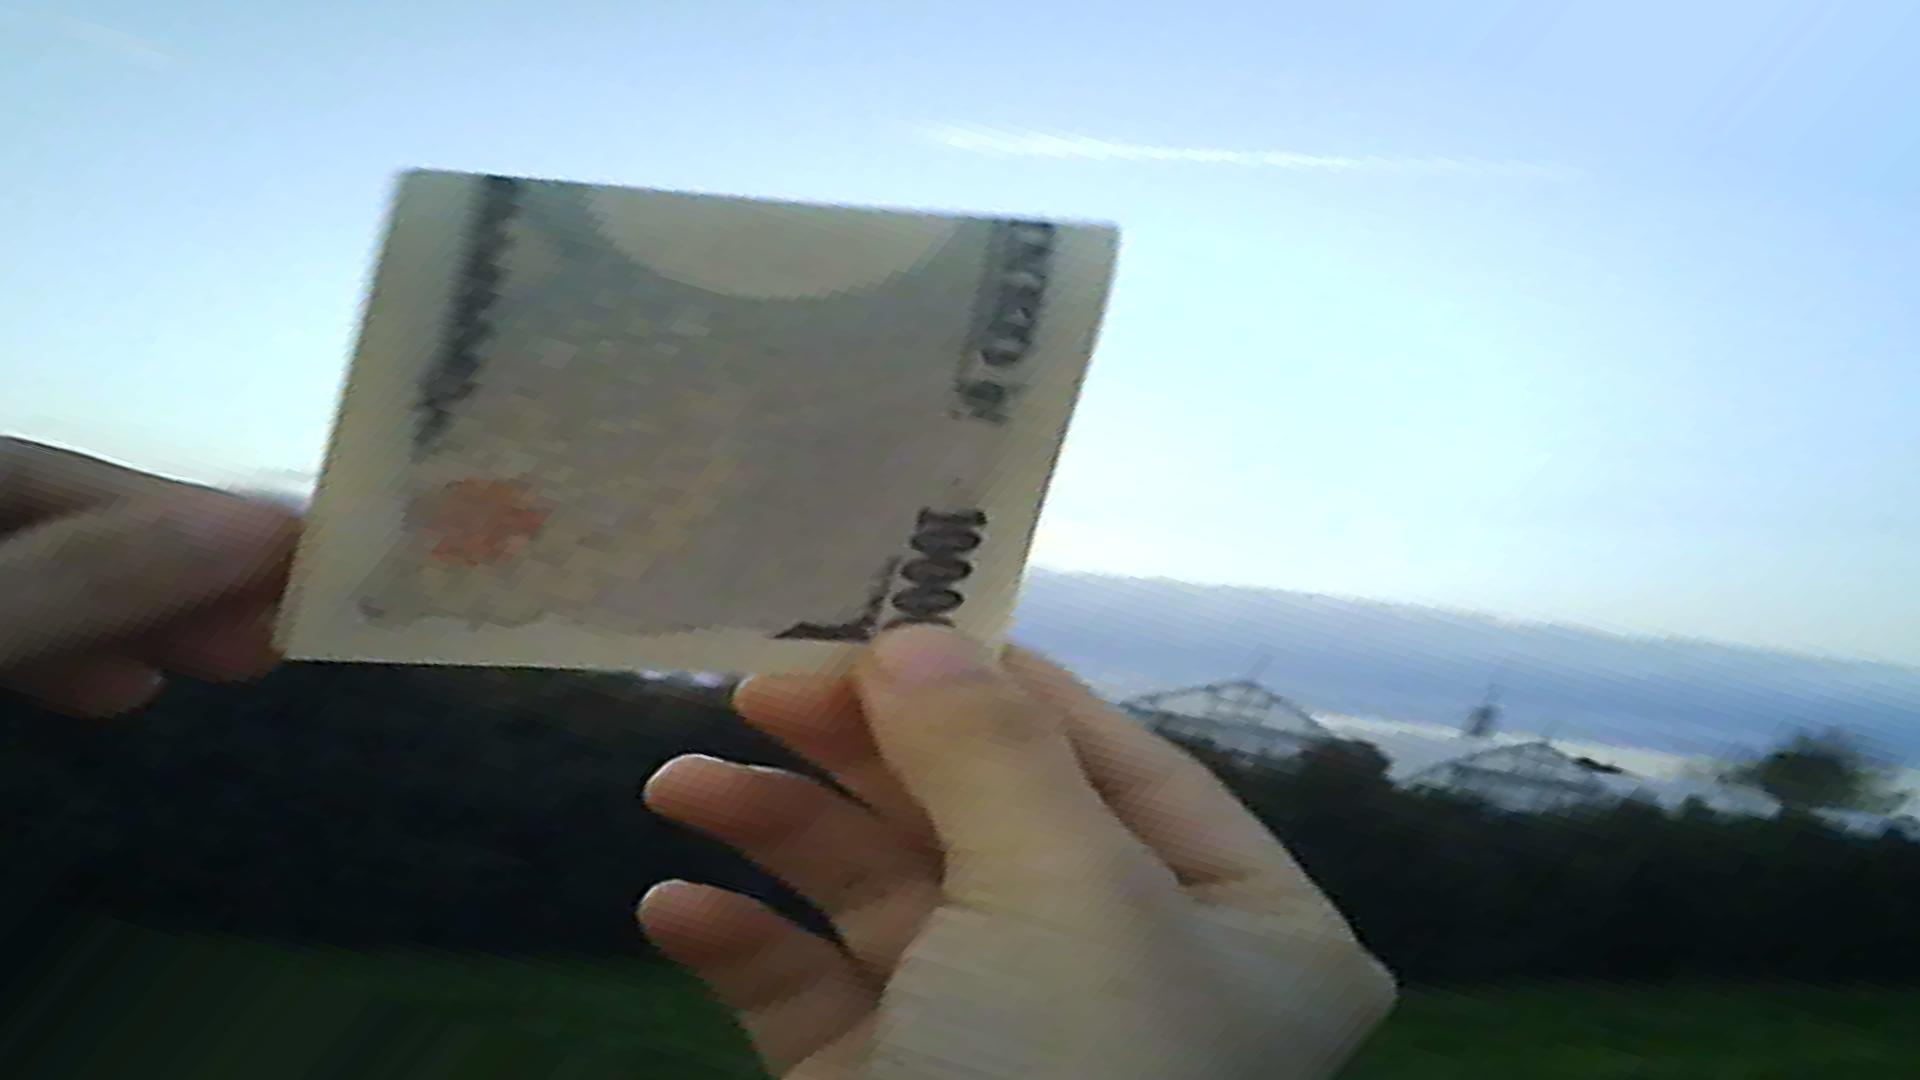10,000 Yen: (286, 156, 1129, 694)
